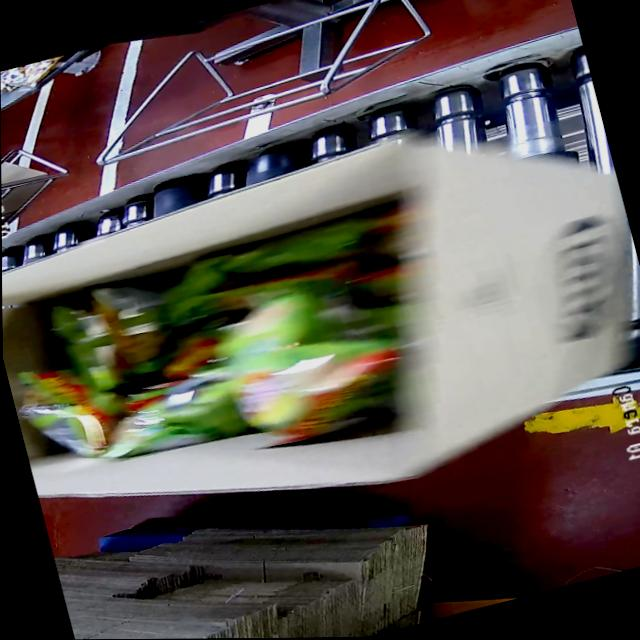YOGURT_HERB: (19, 194, 454, 498)
